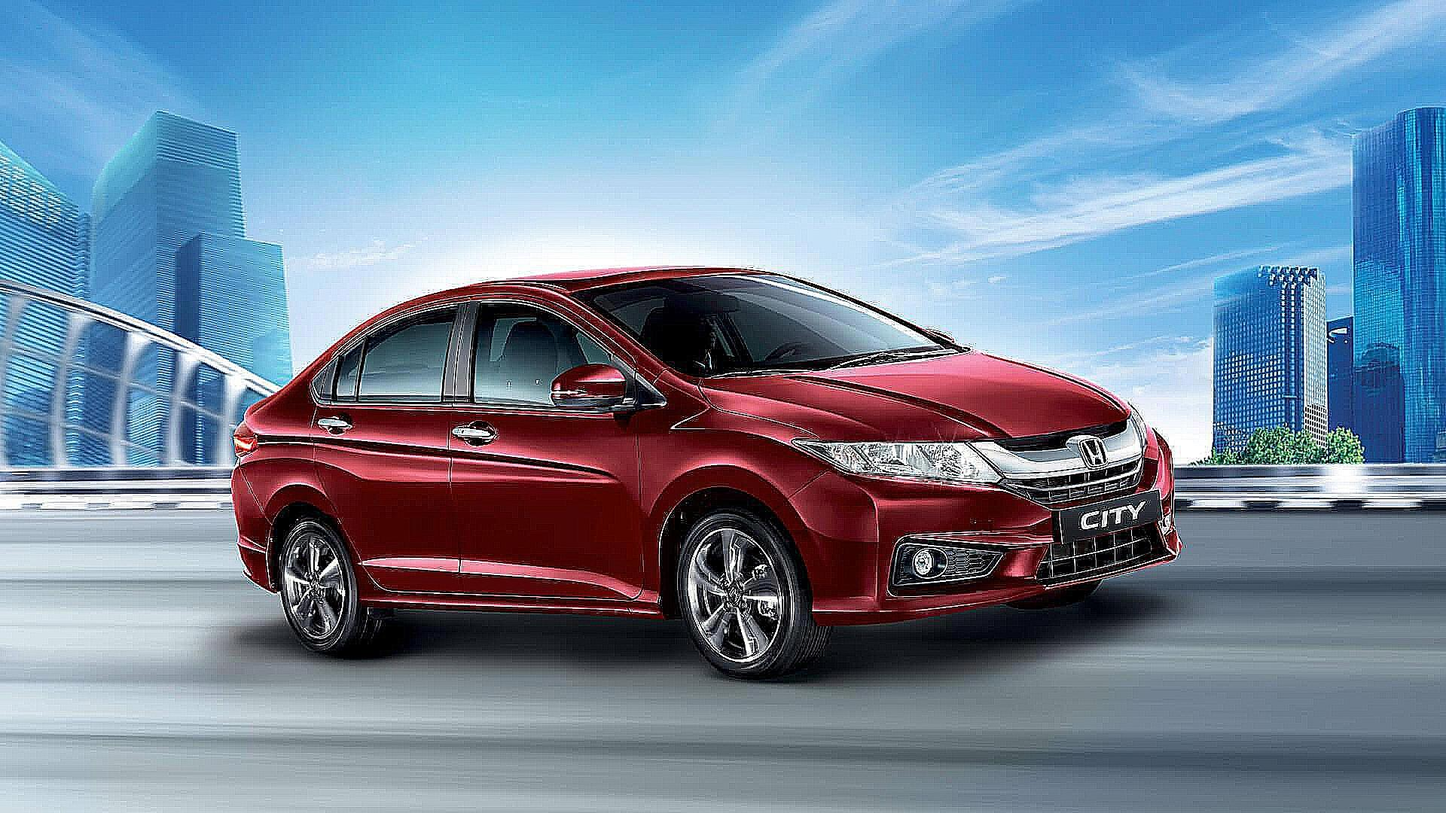Car hood: (702, 354, 1132, 440)
Driver-s door - -F-R-: (451, 266, 657, 635)
Fender - -F-R-: (625, 372, 837, 626)
Fender - -R-R-: (236, 363, 341, 544)
Front bumper: (770, 434, 1190, 620)
Headlight - -R-: (790, 439, 1003, 494)
Passenger-s door - -R-R-: (303, 266, 471, 625)
Rear bumper: (222, 466, 276, 588)
Rear light - -R-: (231, 415, 257, 467)
Side bumper - -R-: (350, 546, 679, 651)
Side mirror - -R-: (544, 359, 646, 421)
